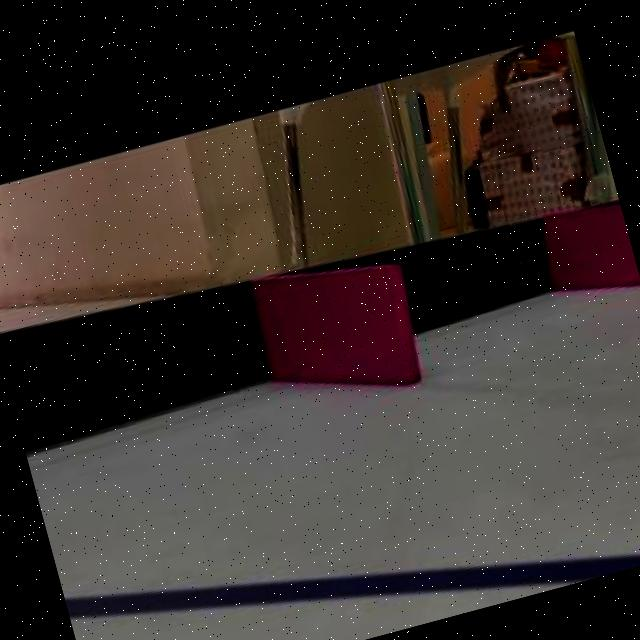xparking: (261, 264, 418, 399), (548, 205, 640, 304)
